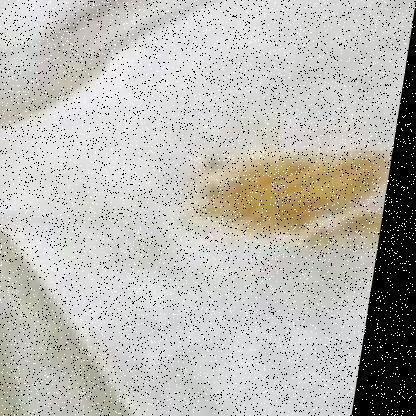coffee: (208, 140, 392, 243)
